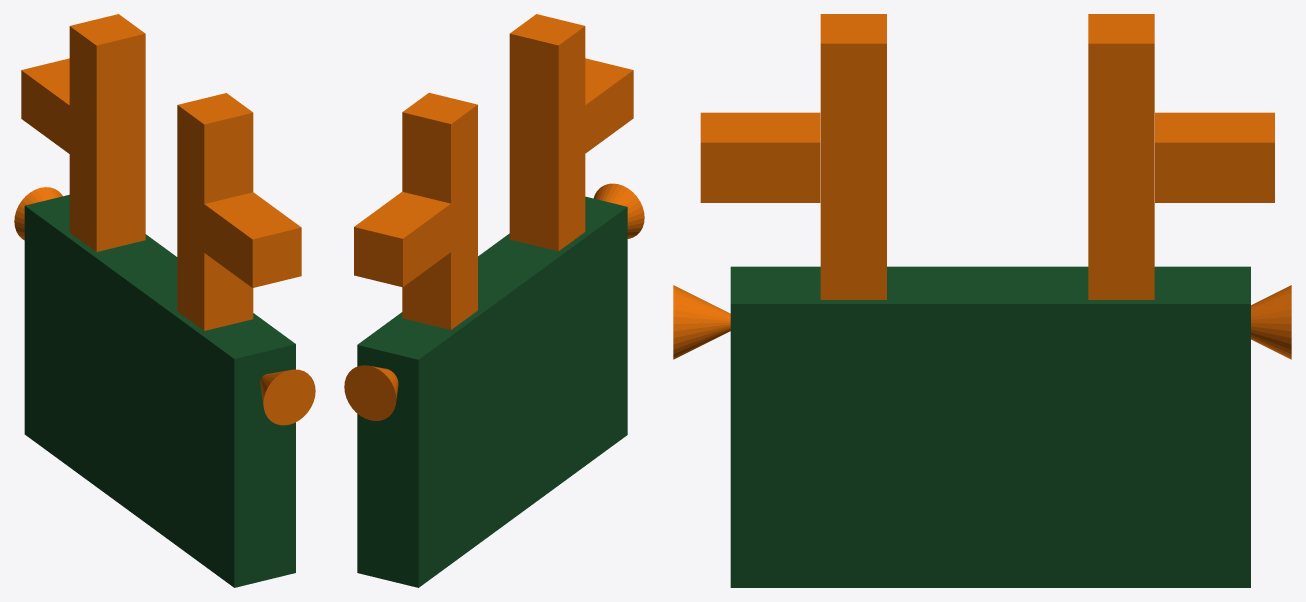
Rendered from hat_1.fbx.
3 renders of one model, left to right at view 1: azimuth 30°, elevation 25°; view 2: azimuth 150°, elevation 25°; view 3: azimuth 270°, elevation 25°, orthographic. The views are drawn at different scales.
Parts seen in each view (by area): view 1: Cube.018; view 2: Cube.018; view 3: Cube.018.
Part boxes in pixels (x1=…): Cube.018: x1=14, y1=14, x2=315, y2=587; Cube.018: x1=344, y1=14, x2=644, y2=587; Cube.018: x1=673, y1=14, x2=1291, y2=587.
Bounding box in the file's own units: 115 × 778 × 807.
